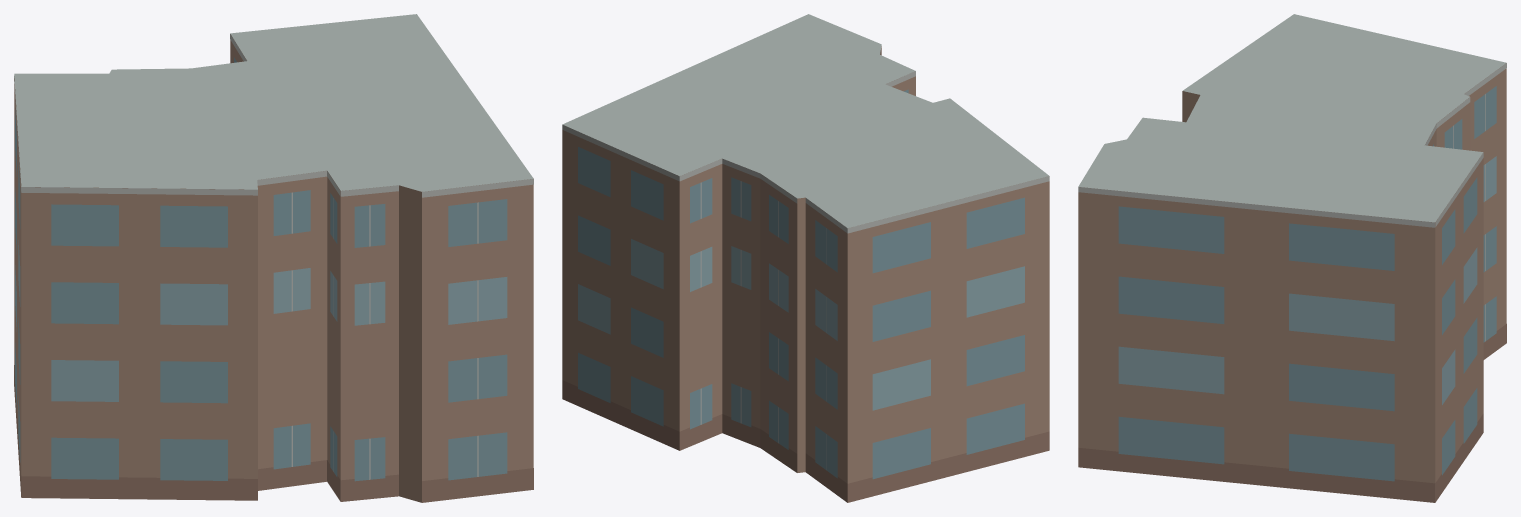
File: survey-upis-32973767.glb
3 renders of one model, left to right at view 1: azimuth 30°, elevation 25°; view 2: azimuth 150°, elevation 25°; view 3: azimuth 270°, elevation 25°, orthographic. The views are drawn at different scales.
Parts seen in each view (by area): view 1: survey-upis-32973767.tmp; view 2: survey-upis-32973767.tmp; view 3: survey-upis-32973767.tmp.
Part boxes in pixels (bbox=[...]): survey-upis-32973767.tmp: bbox=[14, 14, 533, 502]; survey-upis-32973767.tmp: bbox=[562, 14, 1049, 502]; survey-upis-32973767.tmp: bbox=[1078, 14, 1506, 502].
Bounding box in the file's own units: 20.41 × 12.8 × 17.74.
